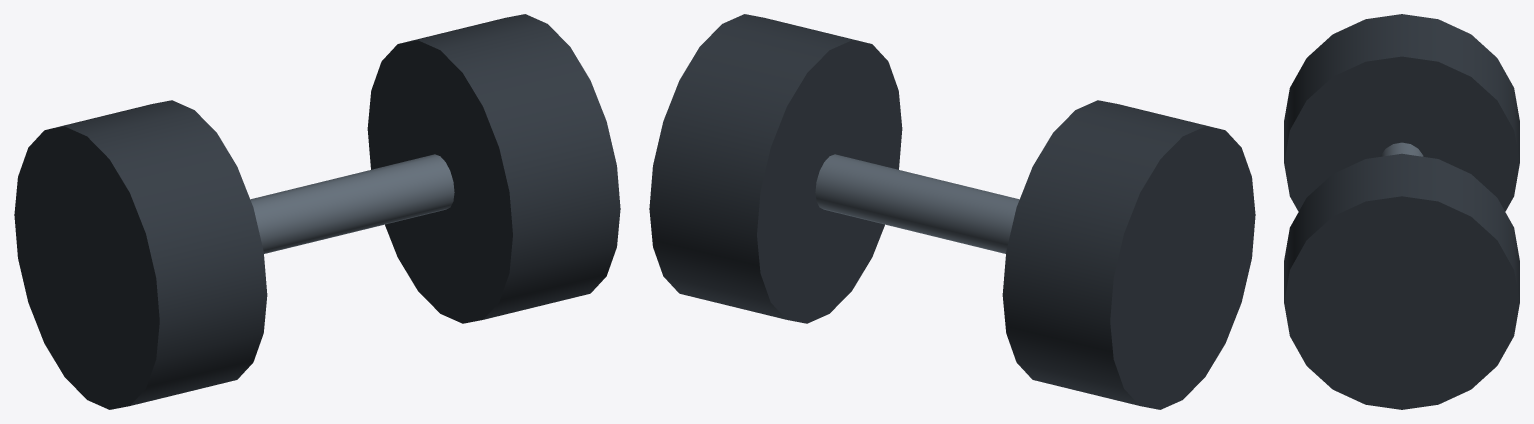
The model's file is dumbbell.glb.
3 views of the same model, side by side, from view 1: azimuth 30°, elevation 25°; view 2: azimuth 150°, elevation 25°; view 3: azimuth 270°, elevation 25° (orthographic). The views are drawn at different scales.
Parts seen in each view (by area): view 1: Ldumbbell; view 2: Ldumbbell; view 3: Ldumbbell.
Part boxes in pixels (<box>): Ldumbbell: <box>14,14,620,409</box>; Ldumbbell: <box>649,14,1255,409</box>; Ldumbbell: <box>1284,14,1519,409</box>.
Size of the model in its own units: 0.3 by 0.164 by 0.164.
